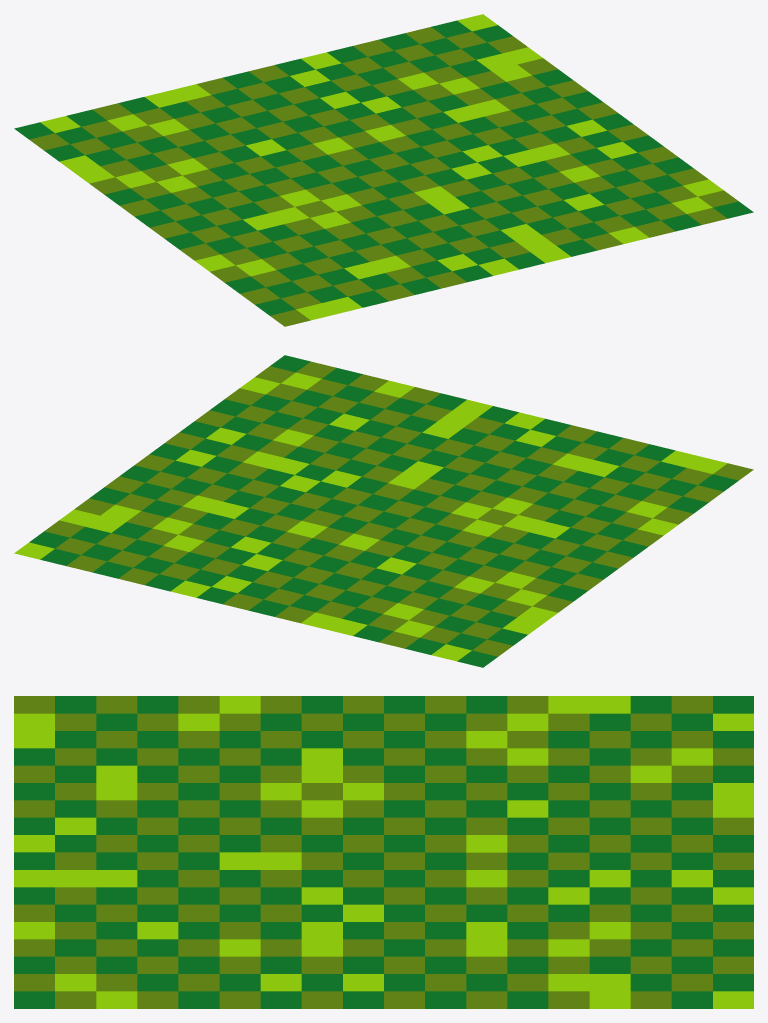
3 views of the same model, one above another, from view 1: azimuth 30°, elevation 25°; view 2: azimuth 150°, elevation 25°; view 3: azimuth 270°, elevation 25° (orthographic). The views are drawn at different scales.
Parts seen in each view (by area): view 1: 平面; view 2: 平面; view 3: 平面.
Part boxes in pixels (box(x1,y1,x2,y2)): 平面: box(14, 14, 753, 326); 平面: box(14, 355, 753, 667); 平面: box(14, 696, 753, 1008).
Size of the model in its own units: 40 by 6.74e-06 by 40.
1 material, 1 textured.
